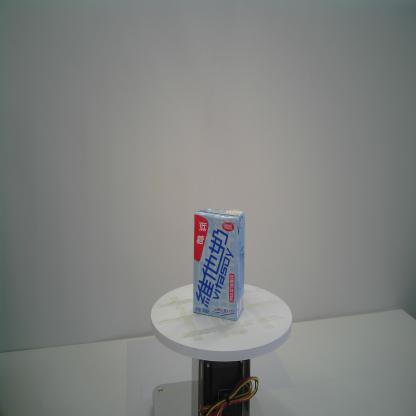Milk: (192, 207, 246, 322)
